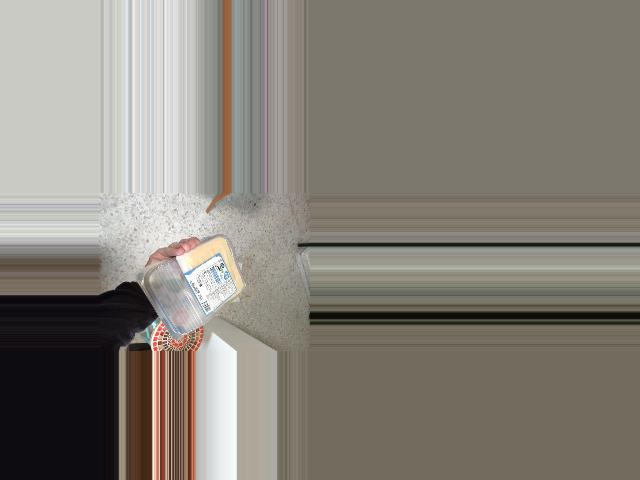cheese: (162, 241, 248, 345)
